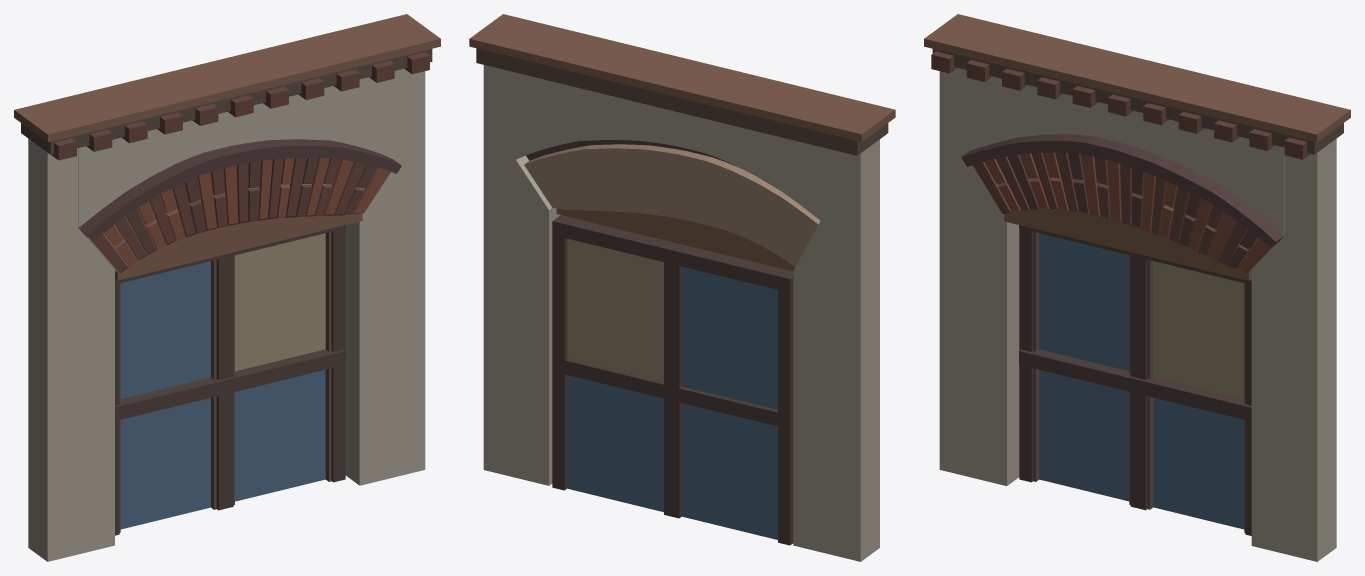
Rendered from huangpu-songyun-villas-fan-brick-window-head-web.glb.
3 renders of one model, left to right at view 1: azimuth 30°, elevation 25°; view 2: azimuth 150°, elevation 25°; view 3: azimuth 330°, elevation 25°, orthographic.
Parts seen in each view (by area): view 1: 松韵别墅总弄转角扇砖窗楣与木窗上扇; view 2: 松韵别墅总弄转角扇砖窗楣与木窗上扇; view 3: 松韵别墅总弄转角扇砖窗楣与木窗上扇.
Part boxes in pixels (<box>): 松韵别墅总弄转角扇砖窗楣与木窗上扇: <box>14,14,440,561</box>; 松韵别墅总弄转角扇砖窗楣与木窗上扇: <box>469,14,895,561</box>; 松韵别墅总弄转角扇砖窗楣与木窗上扇: <box>924,14,1350,561</box>.
Size of the model in its own units: 2.08 by 2.2 by 0.326.
